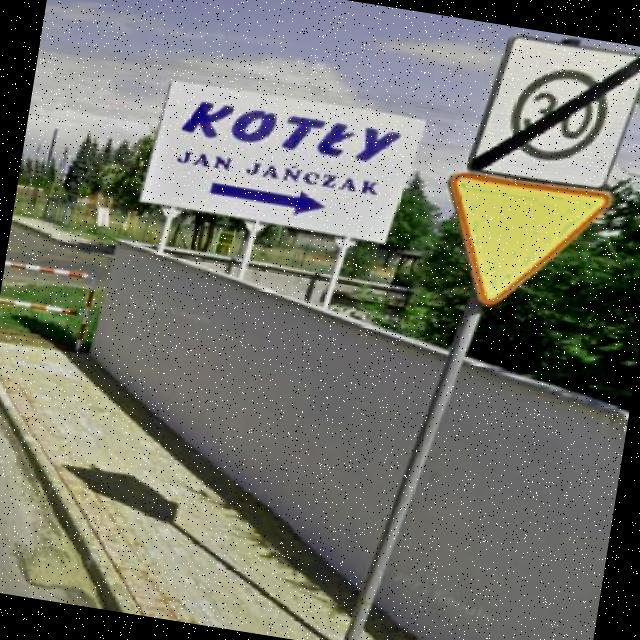Ustap pierwszenstwa: (427, 167, 612, 325)
